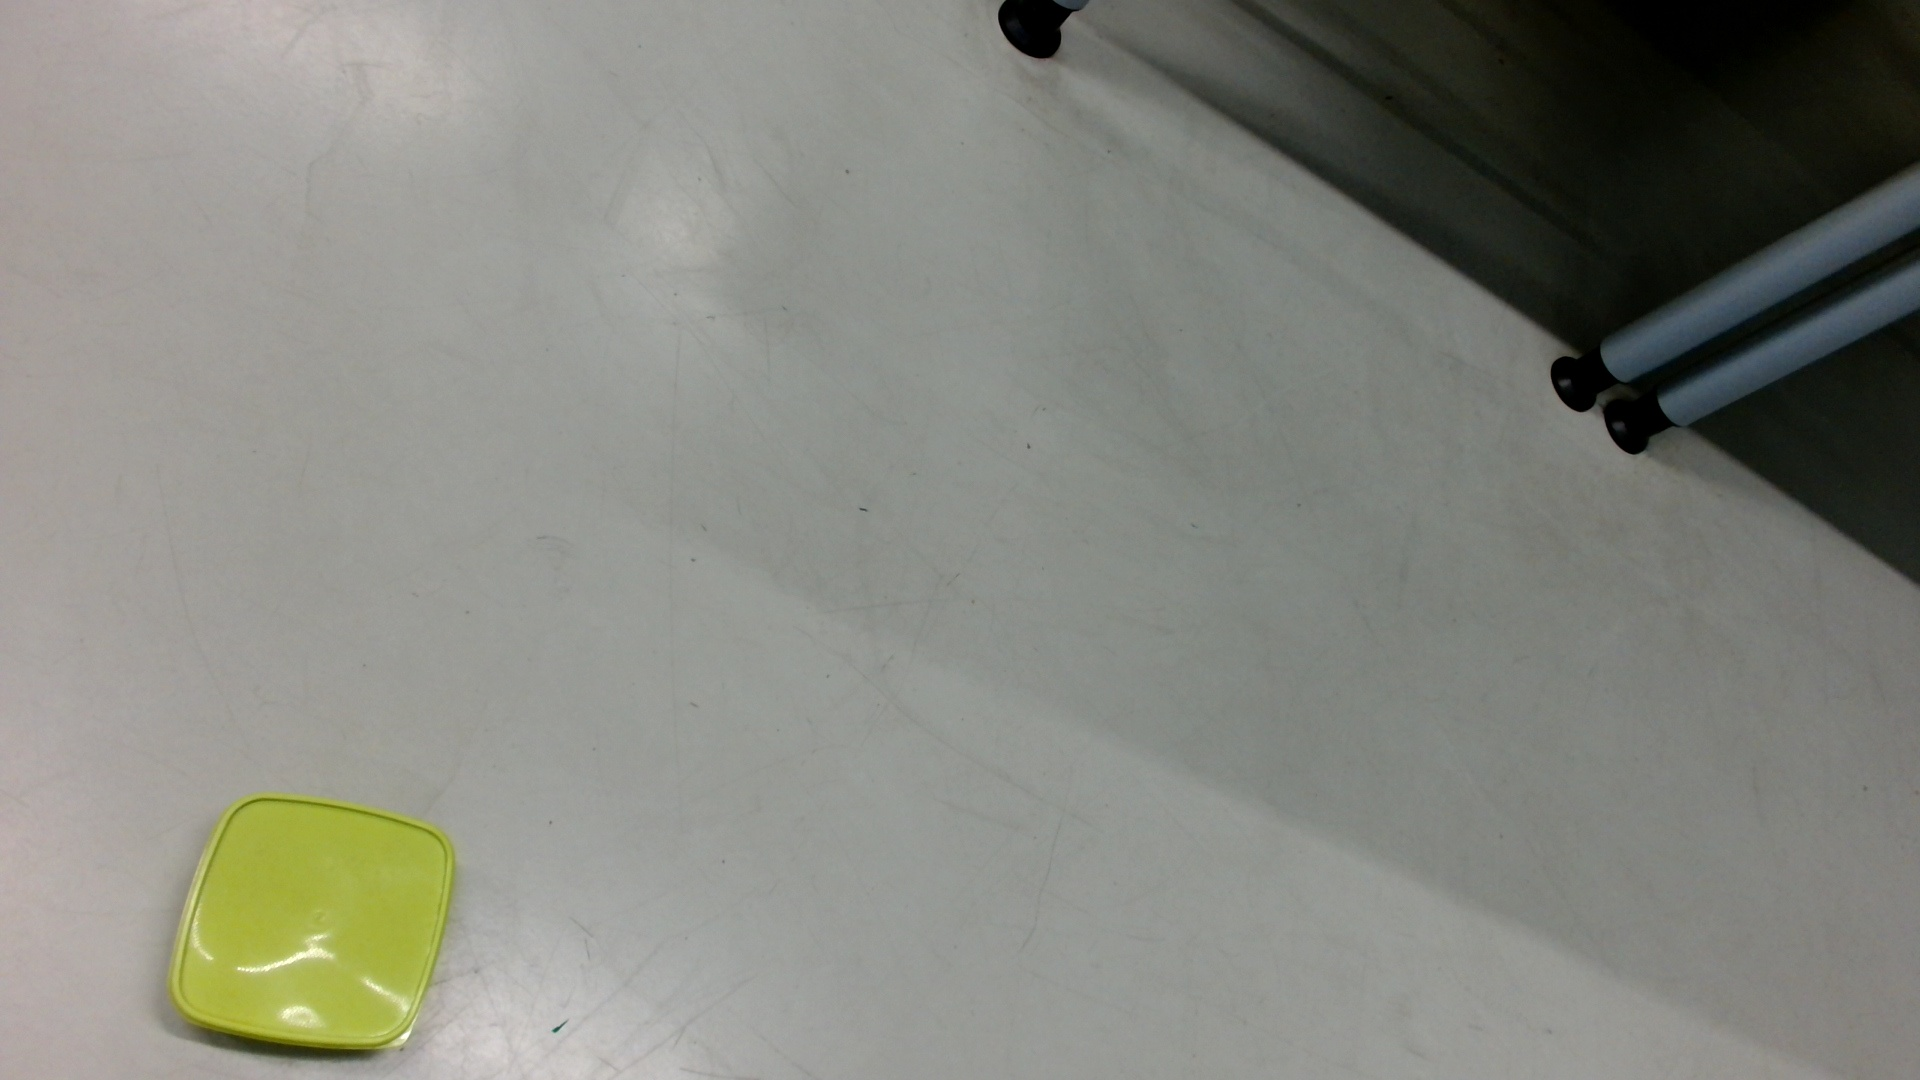Box: (161, 789, 459, 1058)
